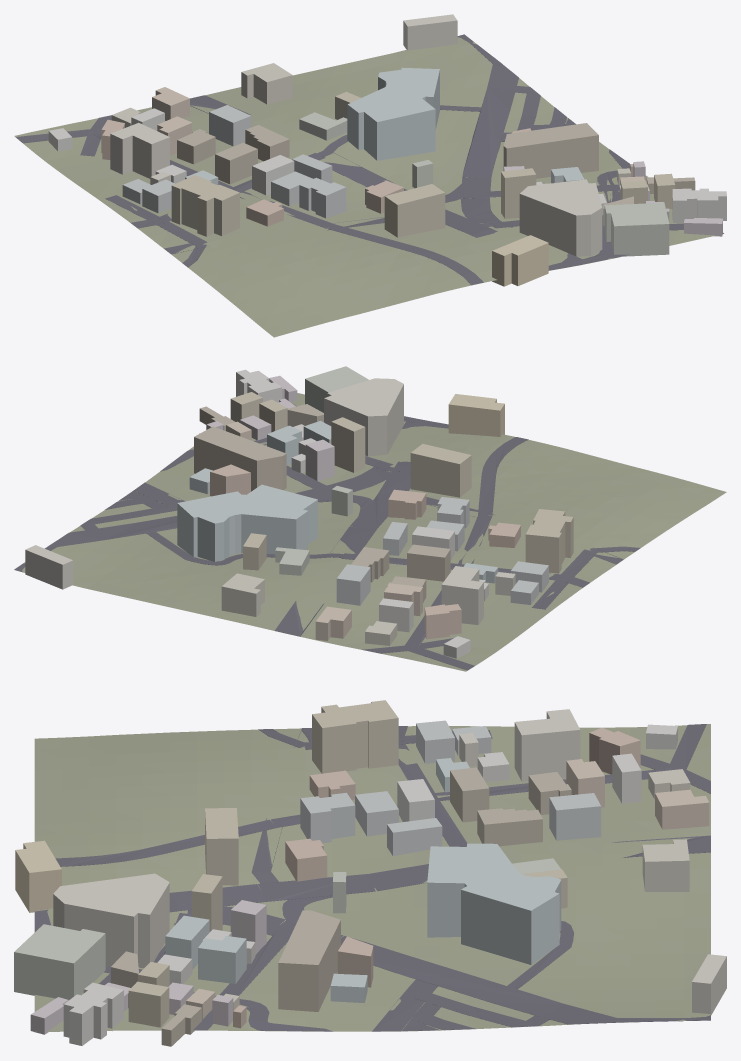
The model's file is chunk_2_5.glb.
3 renders of one model, top to bottom at view 1: azimuth 30°, elevation 25°; view 2: azimuth 150°, elevation 25°; view 3: azimuth 270°, elevation 25°, orthographic. The views are drawn at different scales.
Visible parts, largest first — view 1: geometry_55, geometry_0, geometry_54, geometry_40, geometry_6, geometry_64, geometry_30, geometry_36, geometry_12, geometry_4, geometry_27, geometry_26 (+27 smaller); view 2: geometry_55, geometry_0, geometry_54, geometry_40, geometry_36, geometry_6, geometry_4, geometry_12, geometry_35, geometry_26, geometry_27, geometry_64 (+36 smaller); view 3: geometry_55, geometry_0, geometry_54, geometry_30, geometry_6, geometry_40, geometry_64, geometry_12, geometry_28, geometry_4, geometry_36, geometry_21 (+51 smaller).
Part boxes in pixels (<box>): geometry_55: <box>14,37,715,337</box>; geometry_0: <box>347,67,439,160</box>; geometry_54: <box>519,179,602,256</box>; geometry_40: <box>503,123,598,178</box>; geometry_6: <box>171,175,239,236</box>; geometry_64: <box>462,58,518,178</box>; geometry_30: <box>604,202,669,256</box>; geometry_36: <box>384,184,445,237</box>; geometry_12: <box>110,122,169,178</box>; geometry_4: <box>492,235,548,286</box>; geometry_27: <box>241,63,292,104</box>; geometry_26: <box>403,14,457,50</box>; geometry_55: <box>17,393,726,671</box>; geometry_0: <box>177,484,317,561</box>; geometry_54: <box>324,378,403,456</box>; geometry_40: <box>194,426,286,491</box>; geometry_36: <box>410,443,471,497</box>; geometry_6: <box>525,509,573,573</box>; geometry_4: <box>448,394,504,436</box>; geometry_12: <box>441,566,483,625</box>; geometry_35: <box>331,417,365,472</box>; geometry_26: <box>25,545,73,589</box>; geometry_27: <box>221,573,264,616</box>; geometry_64: <box>45,516,177,548</box>; geometry_55: <box>34,724,710,1032</box>; geometry_0: <box>427,843,561,964</box>; geometry_54: <box>53,873,169,968</box>; geometry_30: <box>14,924,105,1000</box>; geometry_6: <box>312,700,398,773</box>; geometry_40: <box>278,910,340,1011</box>; geometry_64: <box>341,936,631,1024</box>; geometry_12: <box>514,709,580,781</box>; geometry_28: <box>63,982,123,1045</box>; geometry_4: <box>15,840,61,912</box>; geometry_36: <box>205,808,238,885</box>; geometry_21: <box>300,792,355,843</box>.
Bounding box in the file's own units: 262 × 27.71 × 264.
